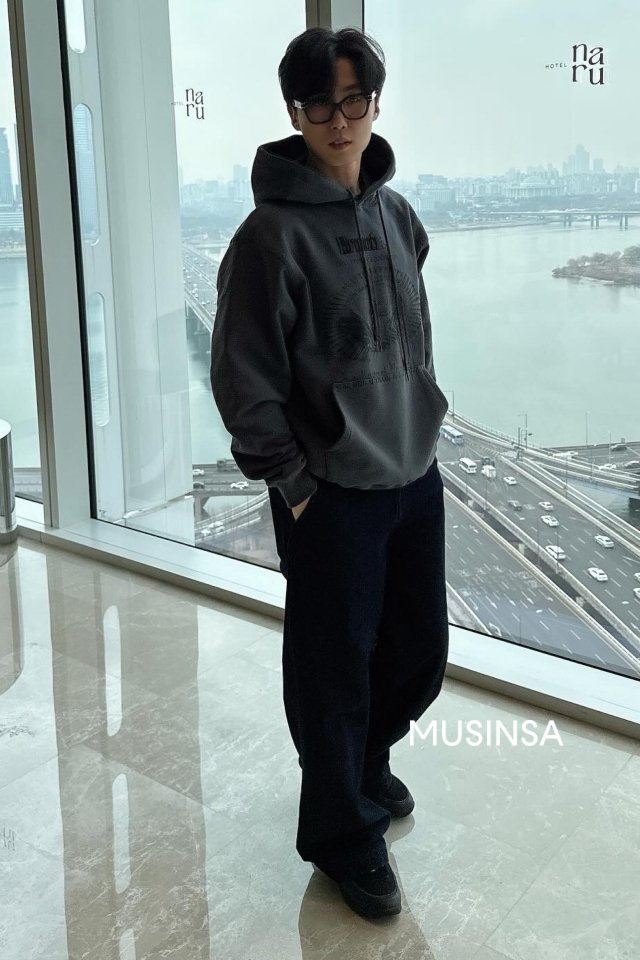Glasses: (285, 91, 383, 118)
Hoodie: (231, 129, 459, 482)
Pants: (256, 465, 452, 849)
Shoes: (318, 765, 432, 919)
